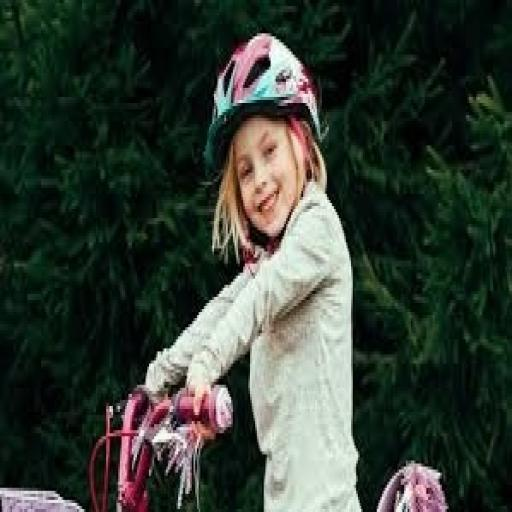cycling: (130, 30, 367, 509)
